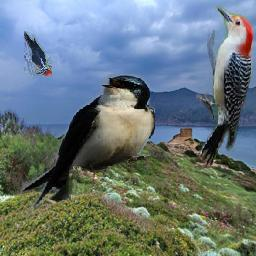Swallow: (21, 75, 155, 208)
Woodpecker: (197, 6, 254, 169), (24, 32, 52, 77)
